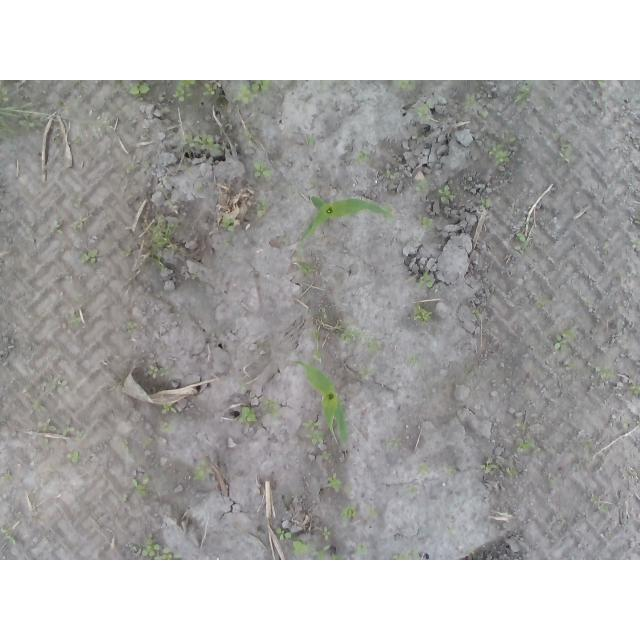Maize: (293, 360, 350, 448), (302, 194, 391, 242)
Weeds: (0, 103, 48, 136), (149, 217, 176, 271), (138, 532, 183, 560), (488, 128, 517, 165), (289, 536, 331, 561), (291, 241, 318, 279), (79, 119, 113, 146), (234, 81, 273, 104), (544, 327, 577, 353), (333, 320, 367, 345), (37, 419, 79, 438), (180, 130, 218, 151), (303, 420, 327, 449), (464, 94, 489, 120), (410, 303, 434, 328), (175, 80, 198, 105), (127, 475, 152, 497), (327, 474, 353, 495), (512, 80, 533, 106), (337, 502, 361, 522), (223, 216, 237, 249), (194, 455, 211, 481), (253, 159, 273, 181), (147, 365, 175, 380), (127, 82, 153, 98), (63, 308, 82, 329), (439, 184, 457, 205), (392, 548, 420, 561), (559, 143, 577, 163), (416, 102, 433, 123), (239, 406, 257, 425), (512, 439, 536, 453), (533, 295, 555, 310), (263, 399, 281, 417), (392, 80, 419, 92), (591, 496, 610, 513), (240, 127, 257, 145), (367, 336, 385, 353), (272, 527, 292, 542), (401, 352, 418, 369), (416, 272, 433, 289), (79, 249, 97, 265), (413, 175, 429, 193), (0, 527, 16, 545), (47, 377, 65, 393), (202, 80, 218, 97), (256, 199, 270, 218), (359, 367, 378, 381), (126, 159, 142, 175), (515, 232, 530, 249), (480, 461, 498, 475), (64, 449, 80, 464), (365, 504, 379, 521), (416, 463, 433, 477), (159, 416, 173, 433), (128, 321, 145, 335), (304, 329, 321, 343), (353, 150, 371, 163), (70, 191, 82, 210), (31, 398, 45, 414), (418, 216, 432, 232), (160, 402, 177, 415), (383, 436, 401, 448), (383, 168, 401, 180), (591, 366, 609, 378), (49, 220, 64, 234), (352, 543, 368, 556), (321, 526, 333, 543), (563, 358, 578, 371), (166, 198, 178, 214), (404, 483, 417, 497), (513, 419, 528, 431), (0, 87, 10, 104), (506, 466, 519, 479), (443, 464, 457, 476), (600, 238, 609, 256), (319, 305, 329, 321), (51, 132, 64, 144), (72, 133, 84, 146), (304, 133, 317, 145), (320, 450, 333, 462), (182, 163, 194, 176), (415, 129, 426, 143), (543, 478, 562, 486), (0, 472, 16, 481), (479, 199, 493, 209), (121, 248, 136, 257), (629, 384, 640, 396), (246, 112, 257, 124), (582, 295, 592, 308), (288, 360, 304, 368), (64, 271, 73, 285), (629, 239, 640, 250), (595, 80, 609, 88), (72, 222, 82, 233), (144, 436, 153, 448), (331, 553, 346, 560), (119, 439, 129, 449), (312, 352, 322, 362), (447, 528, 457, 537), (192, 272, 201, 281), (472, 308, 481, 316), (150, 463, 160, 469)
